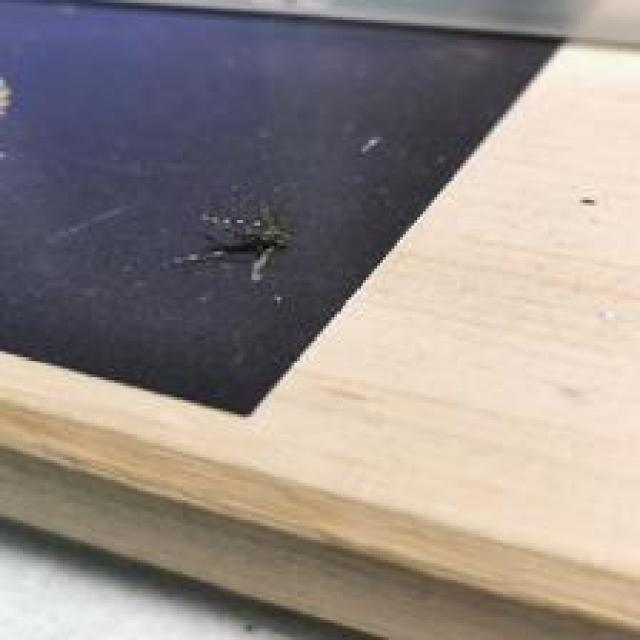Aedes albopictus: (170, 203, 296, 283)
